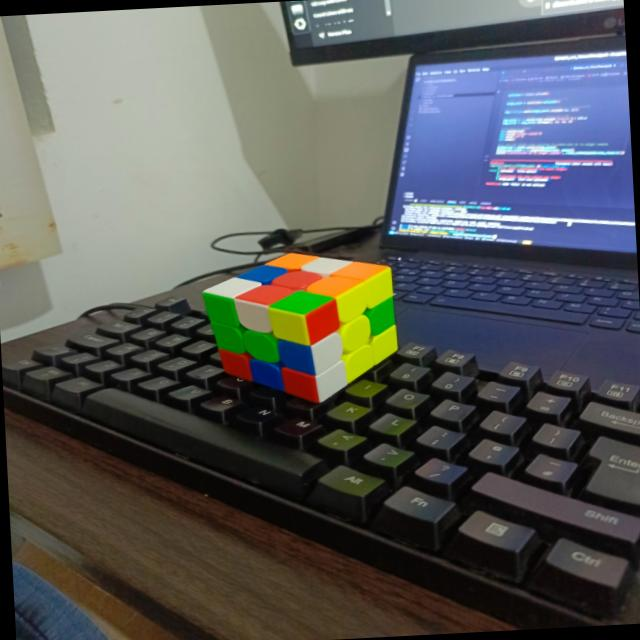rubik: (199, 245, 403, 409)
